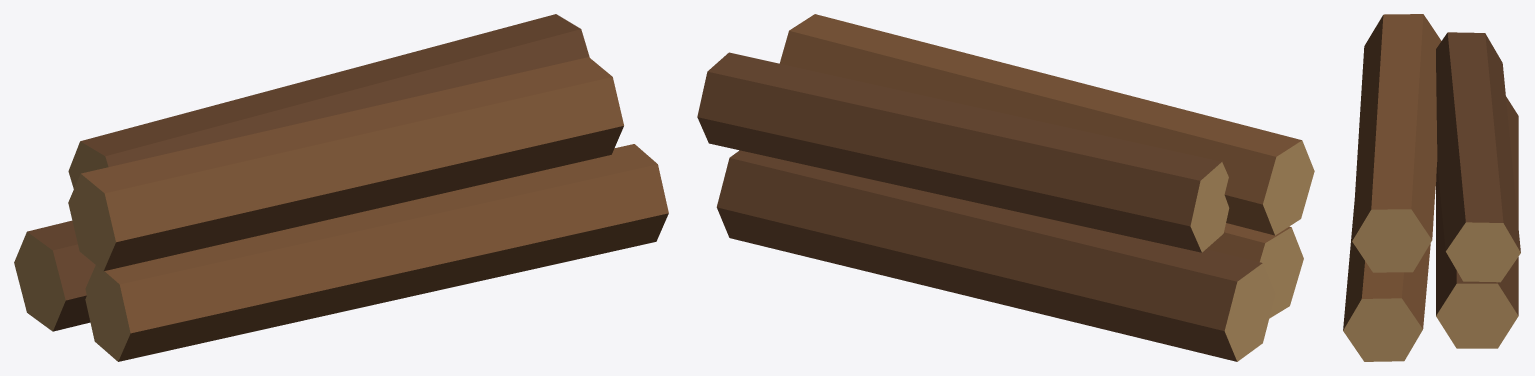
File: logs_arms.glb
3 views of the same model, side by side, from view 1: azimuth 30°, elevation 25°; view 2: azimuth 150°, elevation 25°; view 3: azimuth 270°, elevation 25° (orthographic). The views are drawn at different scales.
Visible parts, largest first — view 1: logs_arms; view 2: logs_arms; view 3: logs_arms.
Part boxes in pixels (x1,y1,x2,y2): logs_arms: [14, 14, 668, 361]; logs_arms: [697, 14, 1314, 361]; logs_arms: [1343, 14, 1520, 361].
Size of the model in its own units: 0.8325 by 0.2504 by 0.2928.
